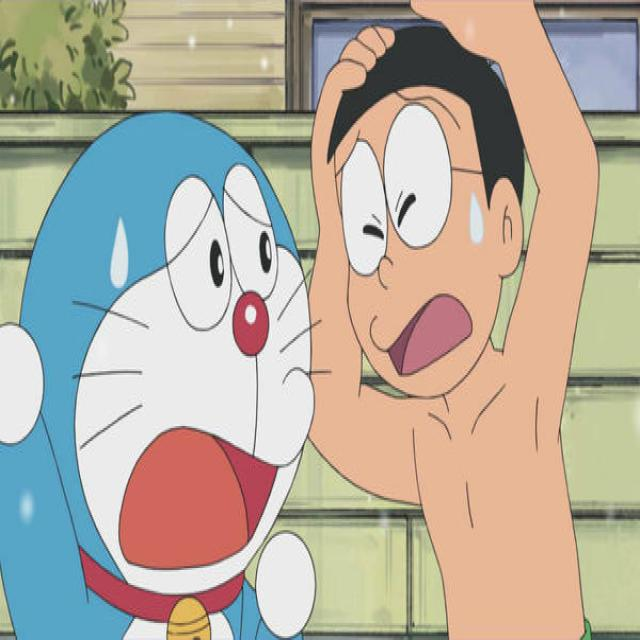doraemon: (11, 97, 319, 636)
nobita: (328, 9, 525, 403)
